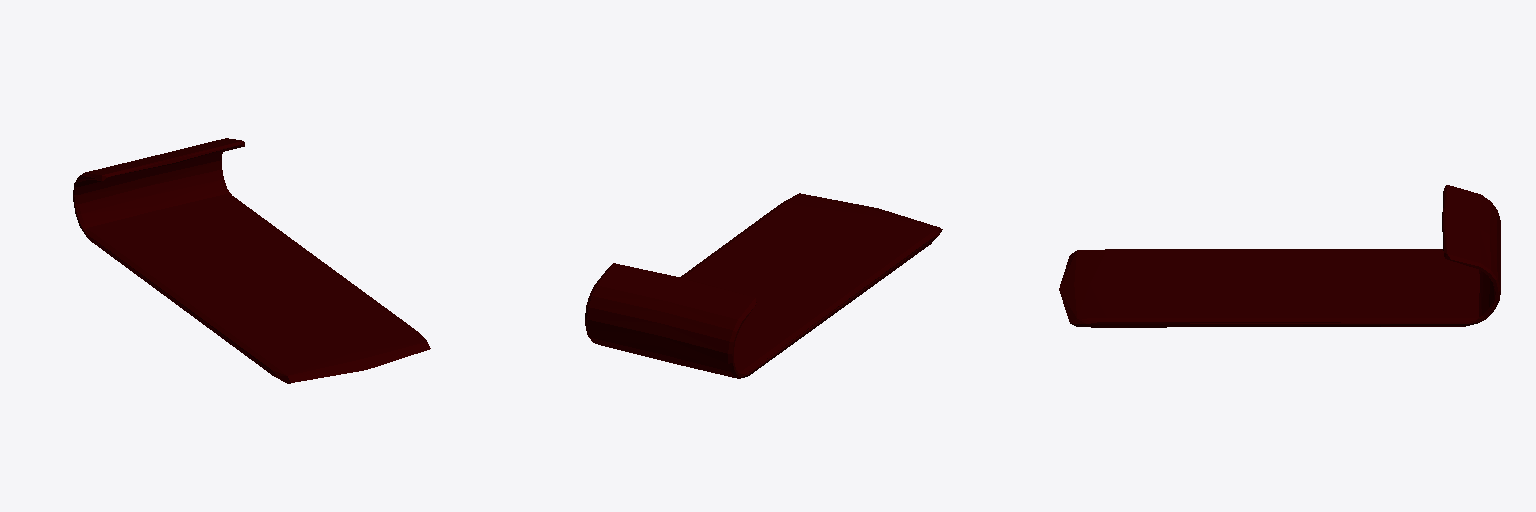
The model's file is sled.obj.
The picture shows the model from 3 angles: view 1: azimuth 30°, elevation 25°; view 2: azimuth 150°, elevation 25°; view 3: azimuth 270°, elevation 25°; orthographic projection.
Visible parts, largest first — view 1: Sphere; view 2: Sphere; view 3: Sphere.
Part boxes in pixels (x1,y1,x2,y2): Sphere: (73, 138, 430, 383); Sphere: (585, 193, 942, 378); Sphere: (1059, 185, 1500, 327).
Bounding box in the file's own units: 1.01 × 0.4799 × 2.58.